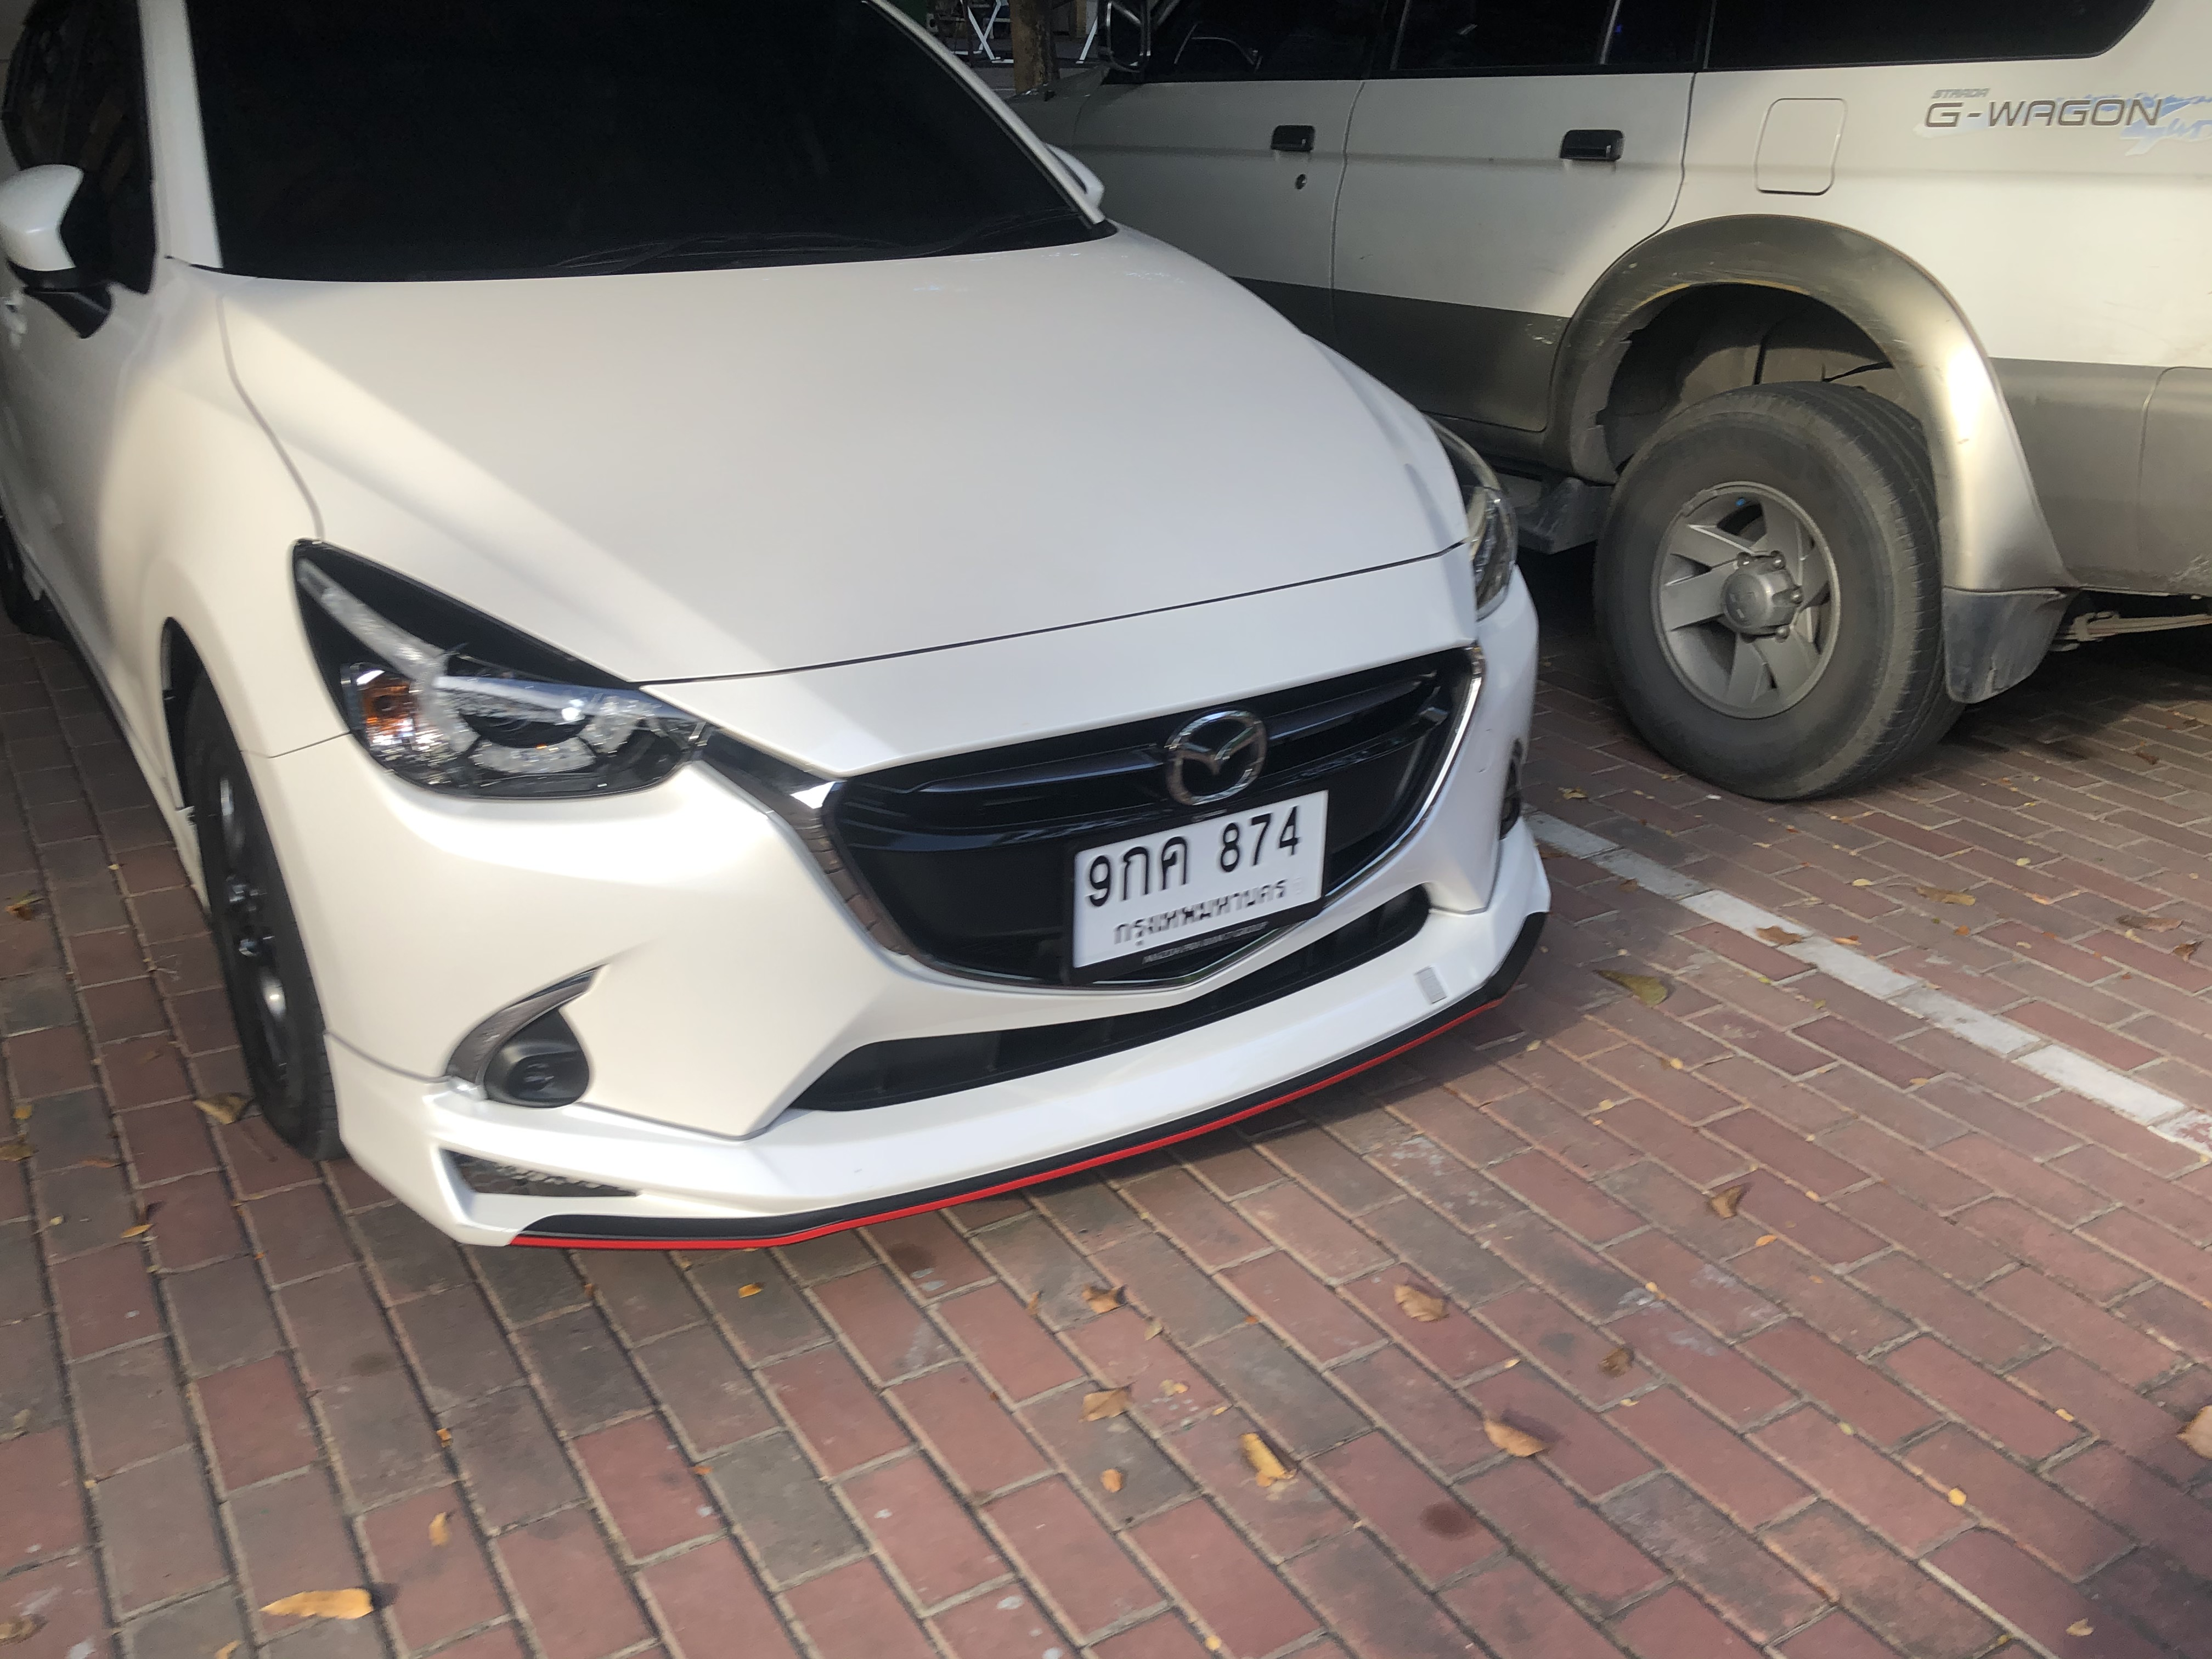in: (1082, 793, 1322, 953)
out: (1052, 774, 1364, 999)
